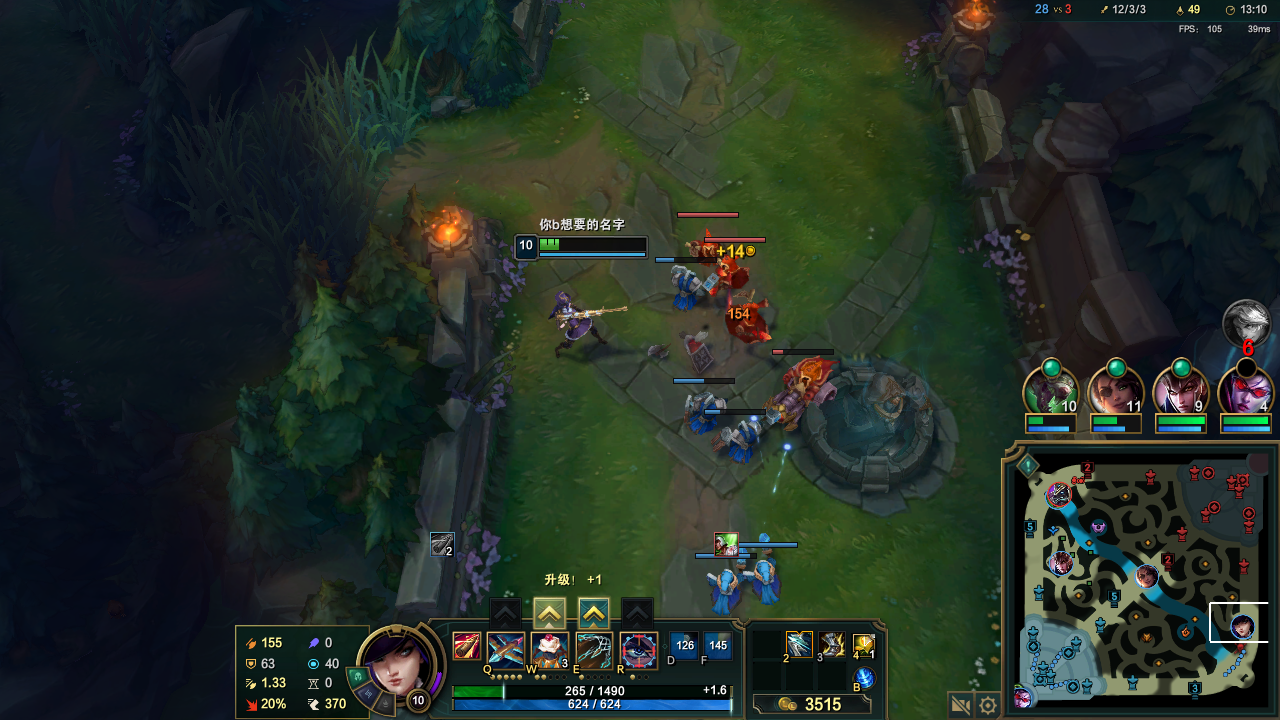DFXB: (778, 359, 833, 406), (711, 255, 749, 283), (688, 232, 722, 257)
KF: (788, 635, 810, 651)
Shenji: (580, 604, 603, 624)
Tuijianshengji: (538, 603, 564, 627)
WFXB: (713, 418, 767, 466), (668, 264, 706, 306), (748, 555, 781, 597), (706, 564, 738, 603), (682, 394, 718, 427)
